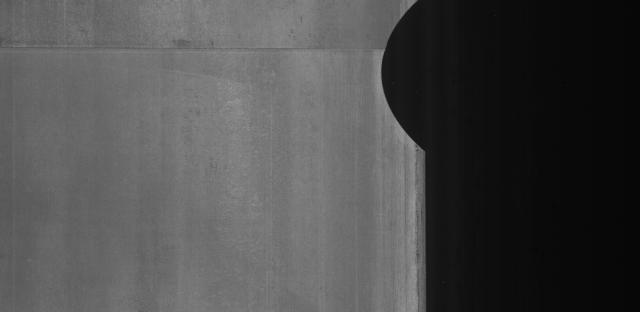welding_line: (0, 32, 400, 58)
